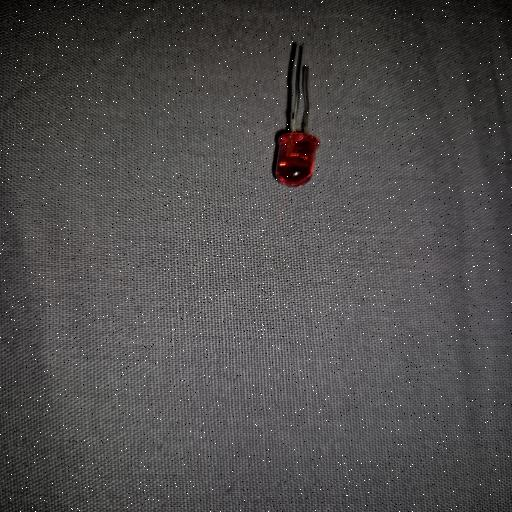led-diode: (261, 36, 324, 188)
